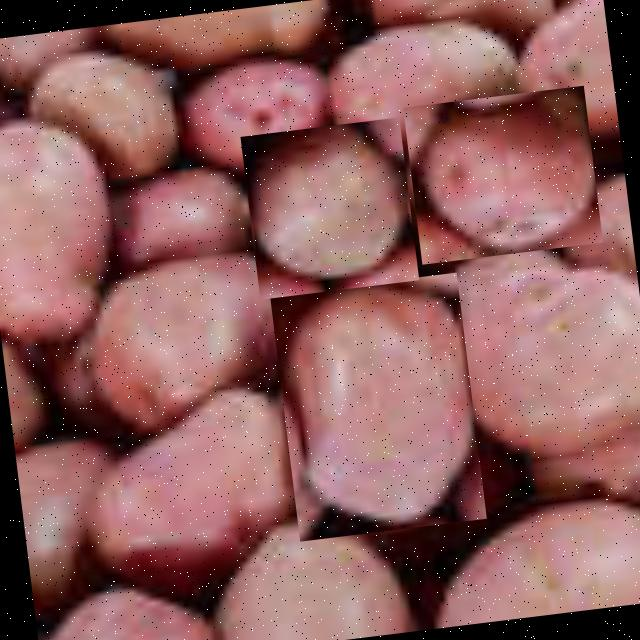Defected potato: (268, 271, 486, 540), (72, 238, 315, 442), (402, 84, 602, 264), (239, 116, 418, 298), (162, 35, 354, 183), (104, 158, 262, 268)
